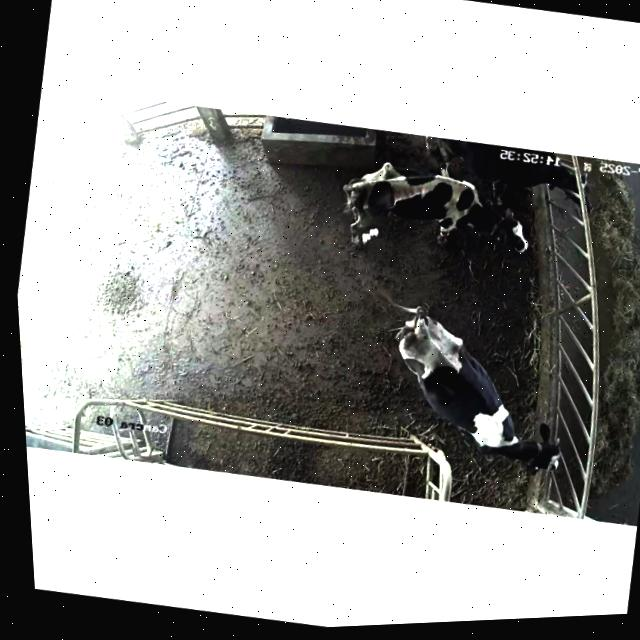stand: (342, 276, 586, 495), (326, 146, 546, 282)
